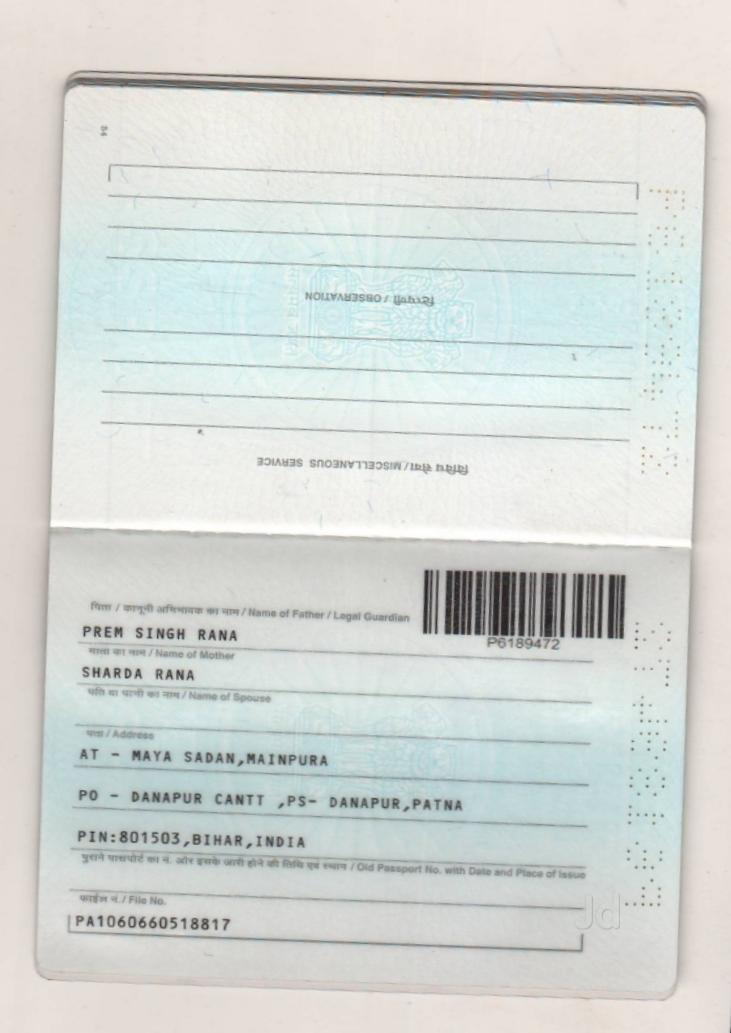File_no: (69, 906, 256, 940)
address: (73, 743, 476, 855)
father_name: (70, 614, 260, 654)
mother_name: (68, 650, 210, 698)
passport_no: (483, 631, 579, 658)
